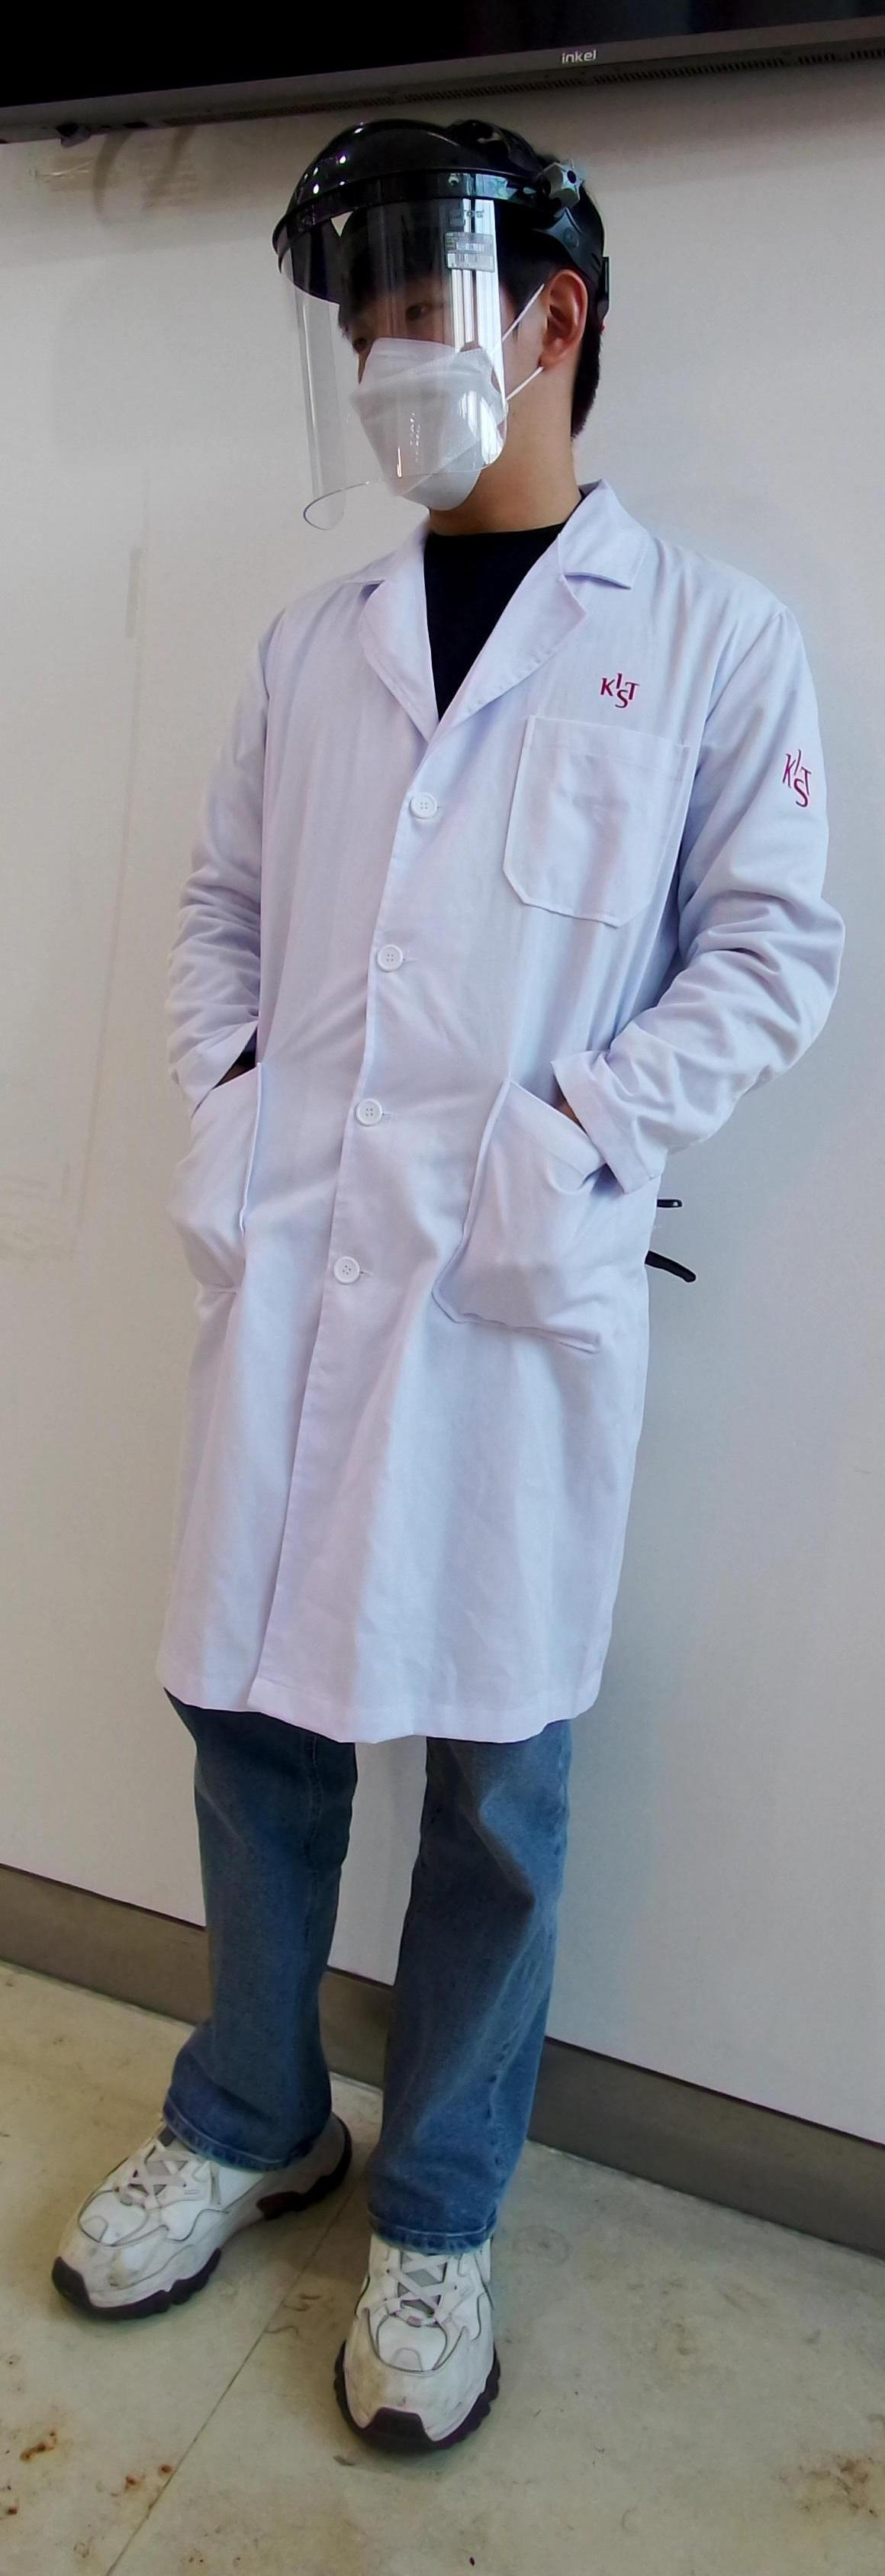lab_coat: (154, 559, 821, 1715)
